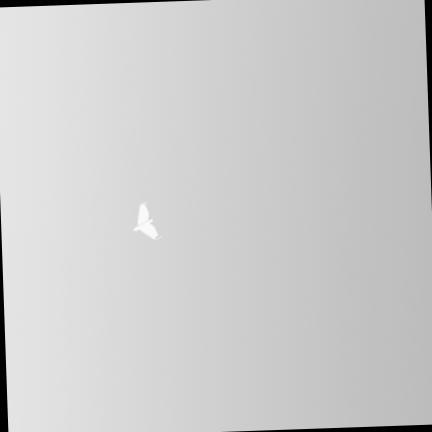Shahed: (133, 203, 161, 240)
